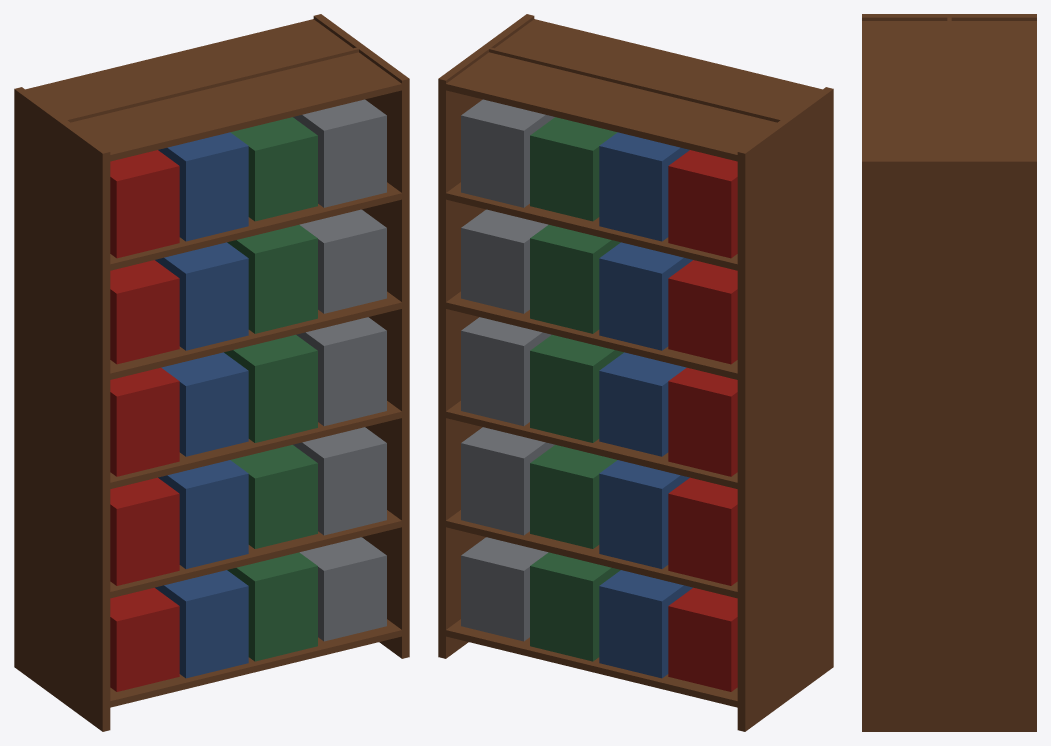
File: school.library.shelf_double.glb
3 renders of one model, left to right at view 1: azimuth 30°, elevation 25°; view 2: azimuth 150°, elevation 25°; view 3: azimuth 270°, elevation 25°, orthographic.
Visible parts, largest first — view 1: main__hardwood, main__fabric_blue, main__fabric_green, main__fabric_grey, main__fabric_red; view 2: main__hardwood, main__fabric_blue, main__fabric_green, main__fabric_grey, main__fabric_red; view 3: main__hardwood.
Boxes of the visible parts, x1,y1,x2,y2 form: main__hardwood: (14,14,409,731); main__fabric_blue: (155,132,248,678); main__fabric_green: (224,117,317,661); main__fabric_grey: (293,99,386,641); main__fabric_red: (110,150,179,691); main__hardwood: (438,14,833,731); main__fabric_blue: (599,132,692,678); main__fabric_green: (530,117,623,661); main__fabric_grey: (461,99,554,641); main__fabric_red: (668,150,737,691); main__hardwood: (862,14,1036,731).
Size of the model in its own units: 1 by 1.8 by 0.5.
